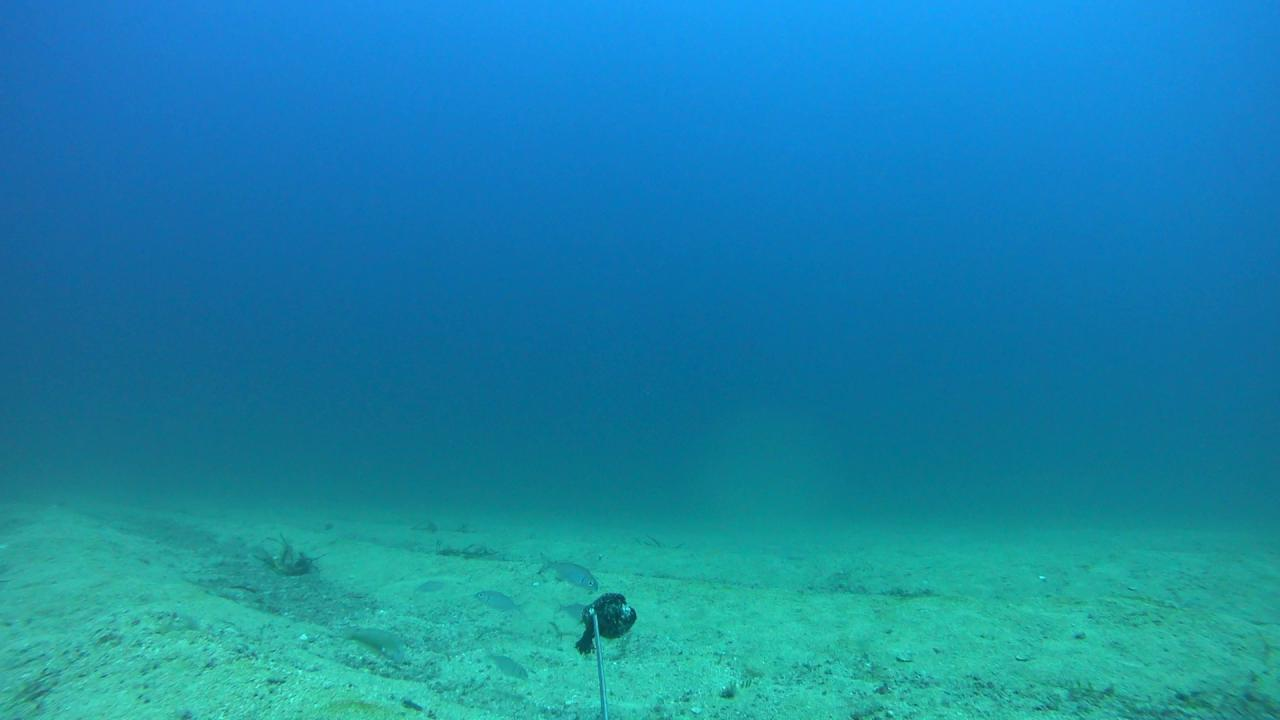pagellus: (538, 549, 596, 590), (473, 589, 527, 618), (482, 650, 525, 682)
